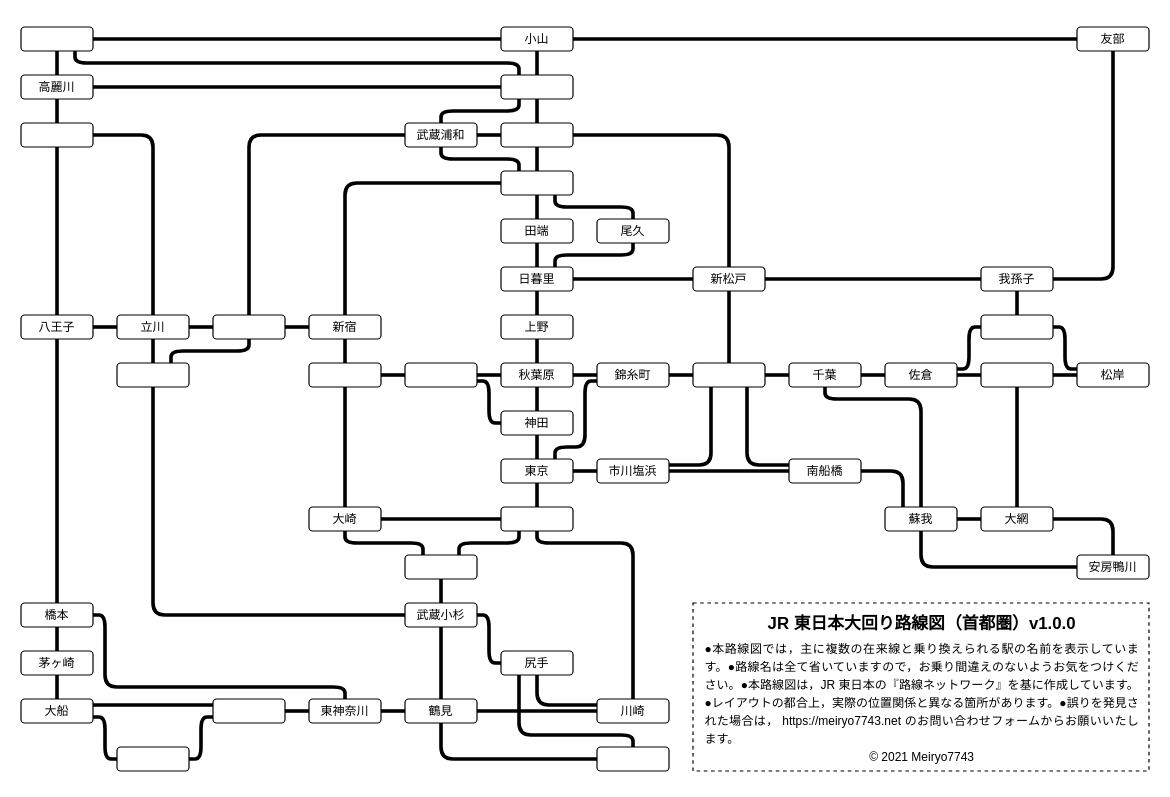
Image size: 1170x797. Some labels were removed from this diagram. Here are the shapes that lost their labels. From the top down, the box of each, then its label:
(20, 26, 93, 51): 倉賀野
(500, 74, 573, 99): 大宮
(20, 122, 93, 147): 拝島
(500, 122, 573, 147): 南浦和
(500, 170, 573, 195): 赤羽
(212, 314, 285, 339): 西国分寺
(980, 314, 1053, 339): 成田
(116, 362, 189, 387): 府中本町
(308, 362, 381, 387): 代々木
(404, 362, 477, 387): 御茶ノ水
(692, 362, 765, 387): 西船橋
(980, 362, 1053, 387): 成東
(500, 506, 573, 531): 品川
(404, 554, 477, 579): 西大井
(212, 698, 285, 723): 横浜
(116, 746, 189, 771): 桜木町
(596, 746, 669, 771): 浜川崎
